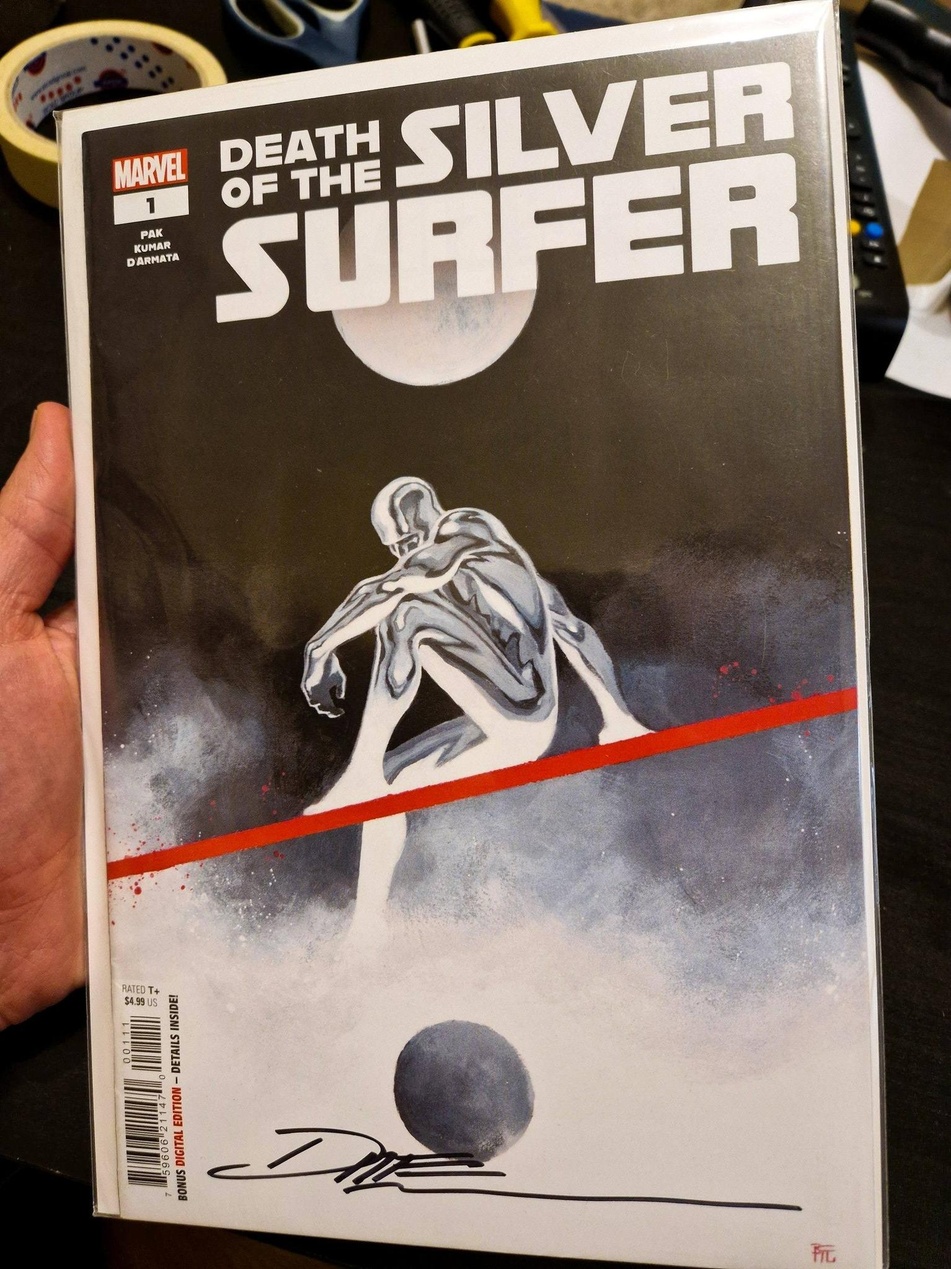comic: (57, 1, 888, 1269)
